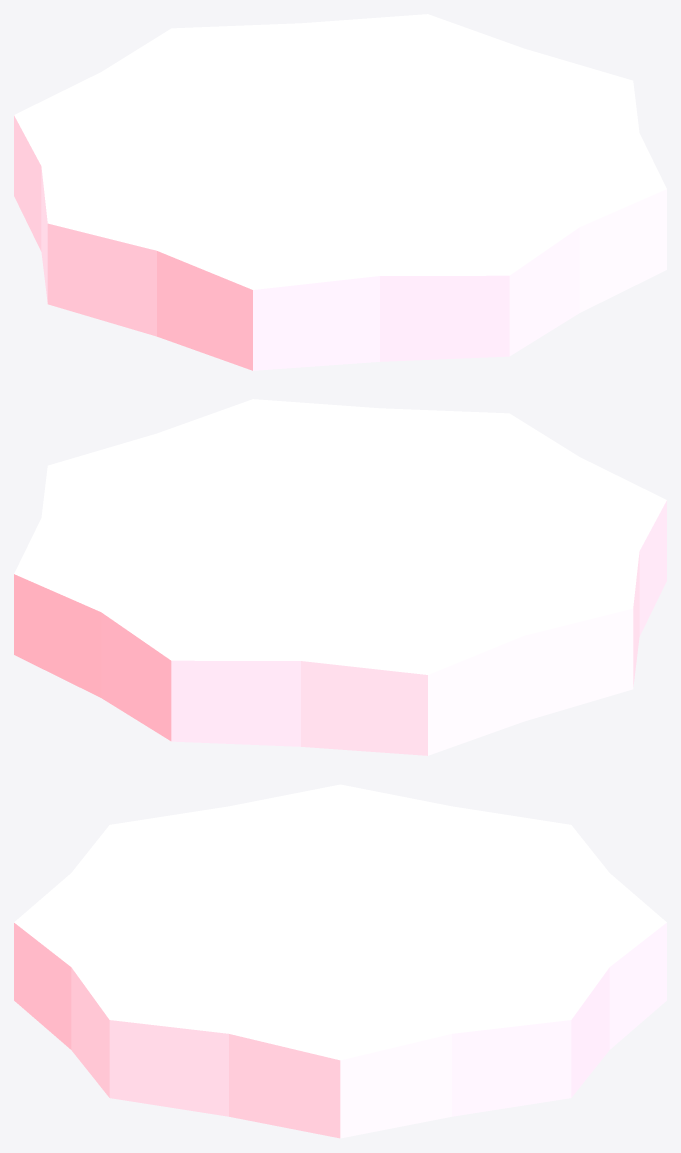
The model's file is naruto.glb.
The picture shows the model from 3 angles, top to bottom: view 1: azimuth 30°, elevation 25°; view 2: azimuth 150°, elevation 25°; view 3: azimuth 270°, elevation 25°; orthographic projection. The views are drawn at different scales.
Parts seen in each view (by area): view 1: Cylinder; view 2: Cylinder; view 3: Cylinder.
Boxes of the visible parts, box(x1,y1,x2,y2) form: Cylinder: box(14, 14, 666, 370); Cylinder: box(14, 399, 666, 755); Cylinder: box(14, 784, 666, 1138).
Size of the model in its own units: 1.8 by 0.2521 by 1.8.
